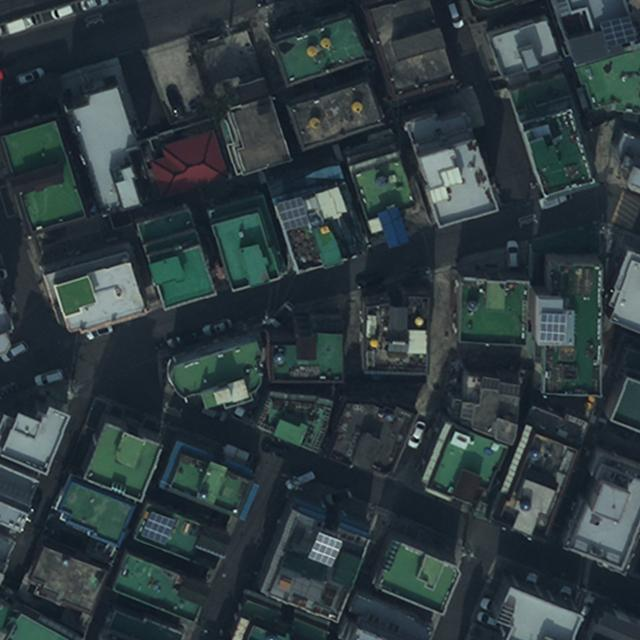panel: (306, 532, 343, 569), (138, 510, 176, 546), (599, 13, 637, 48), (276, 196, 308, 230), (538, 313, 566, 342)
